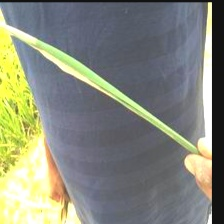Leaf_Blast: (26, 46, 98, 84)
